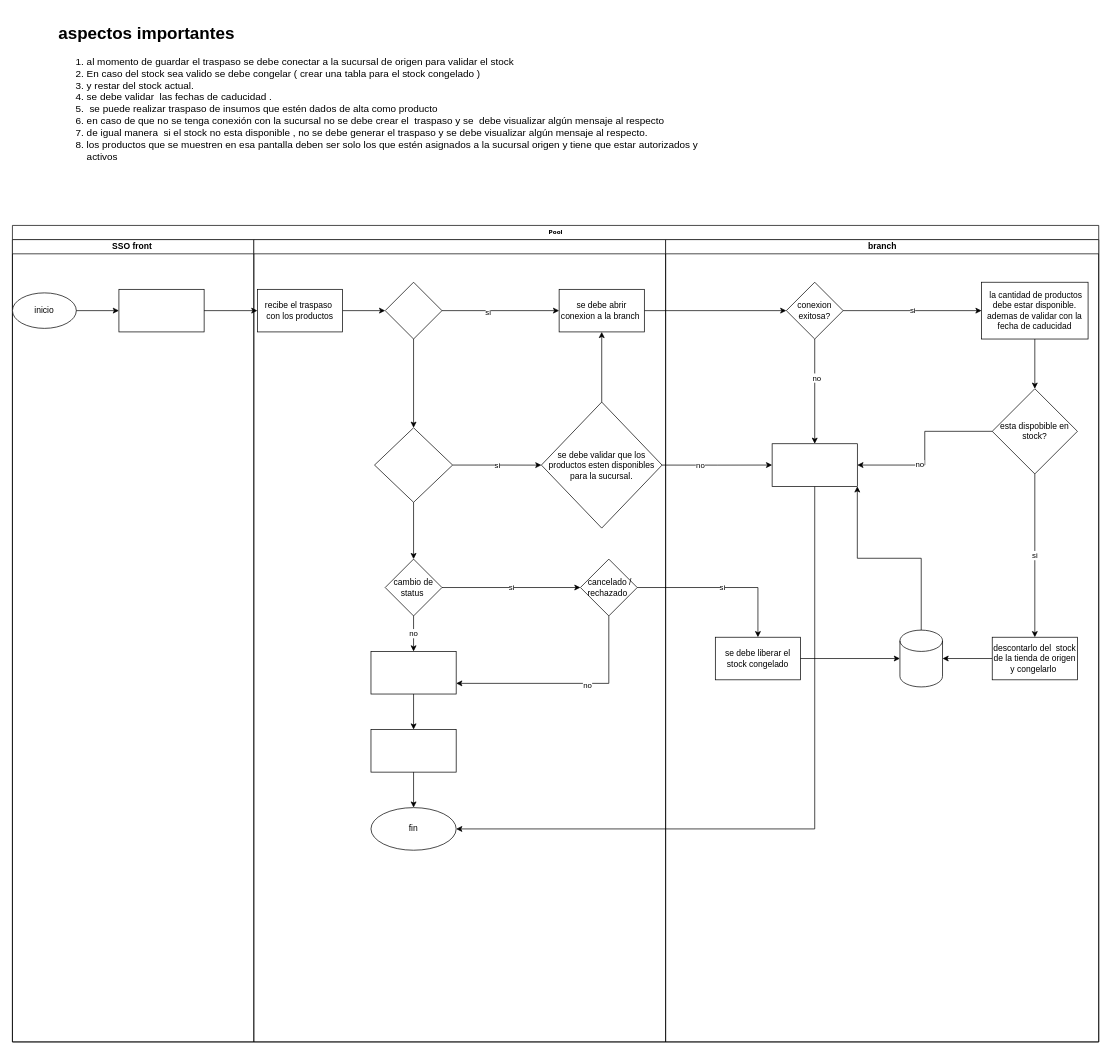
Some shapes in this 1111 by 1054 pixel diagram are drawn without their labels. The shapes that lost their labels are listed below. From the top down, each one's box as (x1, y1, x2, y2) in pixels, then its label:
(118, 289, 204, 332): se crea el traspaso
(384, 282, 442, 339): es nuevo?
(374, 427, 453, 502): los productos / sucursal origen se modificaron?
(771, 443, 857, 486): notificarle al usuario
(253, 239, 666, 1042): sso back
(899, 629, 943, 687): congela el stock
(370, 651, 456, 694): se guarda el traspaso
(370, 729, 456, 772): se envía la notificación
